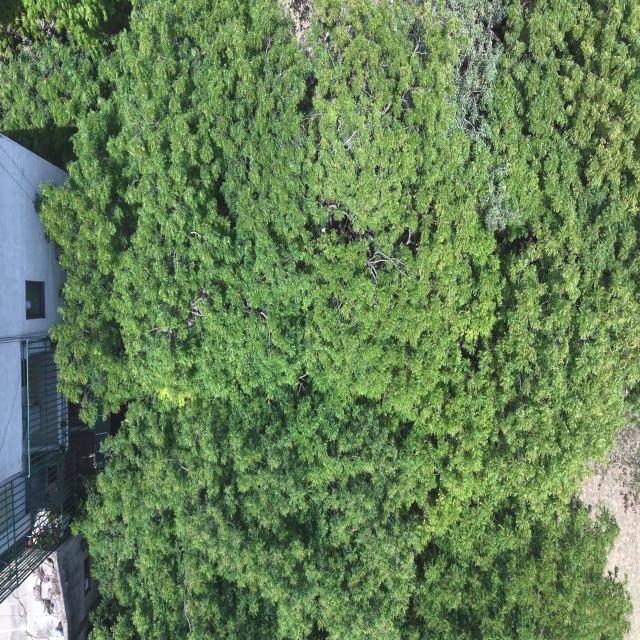DRY_AREA: (582, 473, 639, 639)
VEGETATION_TREE: (0, 0, 639, 639), (0, 0, 130, 166), (594, 417, 639, 511)
